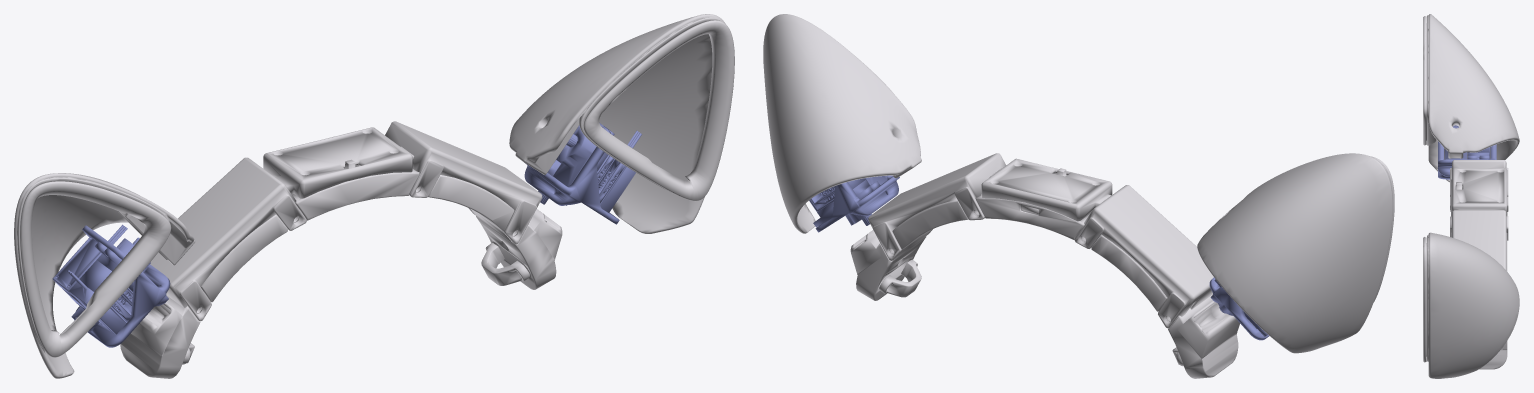
File: robo-cat-ears.glb
The picture shows the model from 3 angles, left to right: view 1: azimuth 30°, elevation 25°; view 2: azimuth 150°, elevation 25°; view 3: azimuth 270°, elevation 25°; orthographic projection. The views are drawn at different scales.
Parts seen in each view (by area): view 1: Headband, EarL, EarR, ServosR, ServosL; view 2: Headband, EarR, EarL, ServosL, ServosR; view 3: EarL, EarR, Headband, ServosR.
Boxes of the visible parts, x1=… form: Headband: x1=120, y1=121, x2=562, y2=378; EarL: x1=509, y1=14, x2=734, y2=233; EarR: x1=14, y1=173, x2=195, y2=378; ServosR: x1=52, y1=224, x2=170, y2=347; ServosL: x1=524, y1=123, x2=641, y2=224; Headband: x1=850, y1=153, x2=1240, y2=378; EarR: x1=1197, y1=153, x2=1394, y2=353; EarL: x1=763, y1=14, x2=921, y2=233; ServosL: x1=809, y1=175, x2=899, y2=232; ServosR: x1=1209, y1=277, x2=1269, y2=340; EarL: x1=1423, y1=232, x2=1519, y2=378; EarR: x1=1423, y1=14, x2=1519, y2=182; Headband: x1=1450, y1=160, x2=1508, y2=369; ServosR: x1=1438, y1=125, x2=1496, y2=179.
Bounding box in the file's own units: 0.3064 × 0.1047 × 0.0513.
